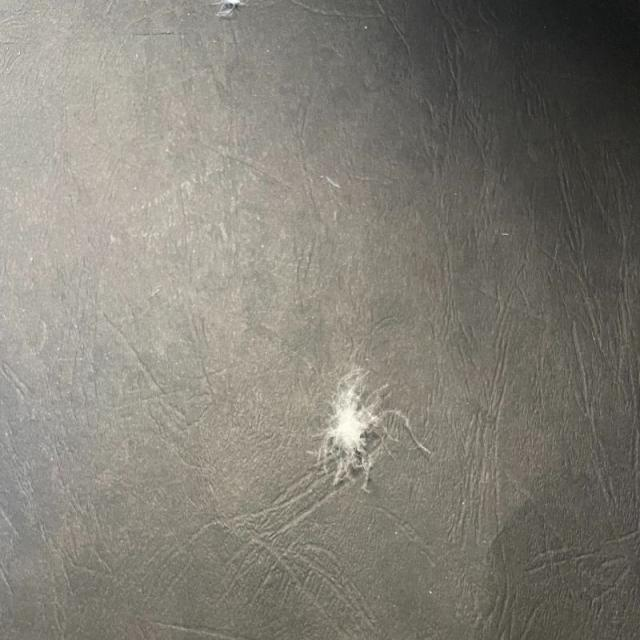feather: (314, 353, 396, 486), (215, 0, 243, 18)
